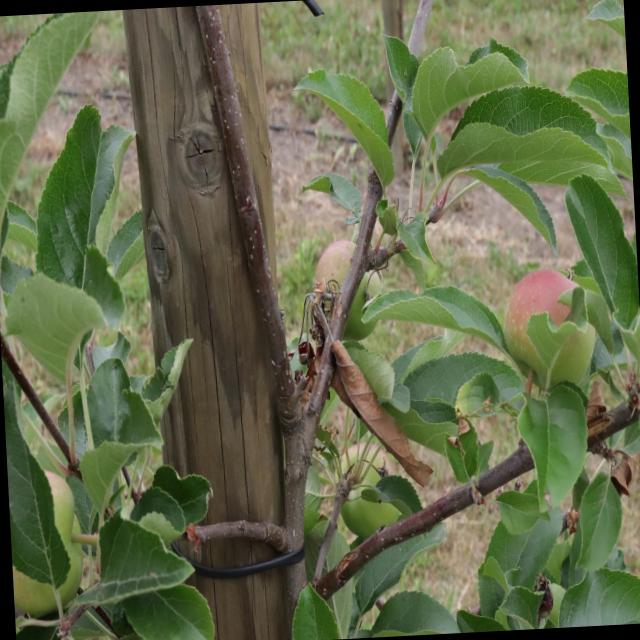-FireBlight-: (289, 285, 425, 498)
